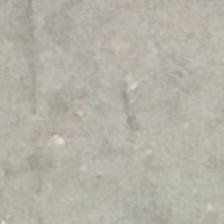Non_Crack: (19, 10, 217, 216)
